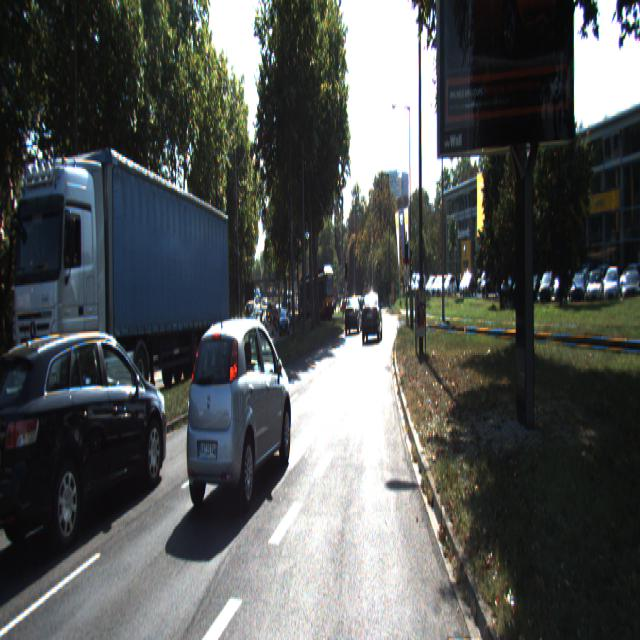Car: (12, 134, 233, 453), (0, 312, 169, 565), (184, 310, 293, 516), (304, 270, 335, 322), (362, 294, 382, 343), (249, 311, 267, 353), (345, 298, 361, 335)
